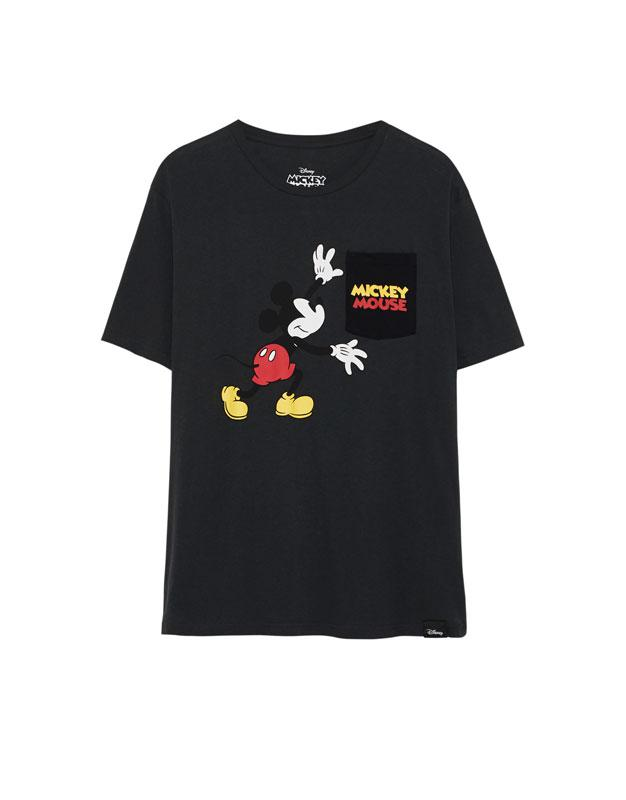teeshirt: (84, 111, 564, 667)
